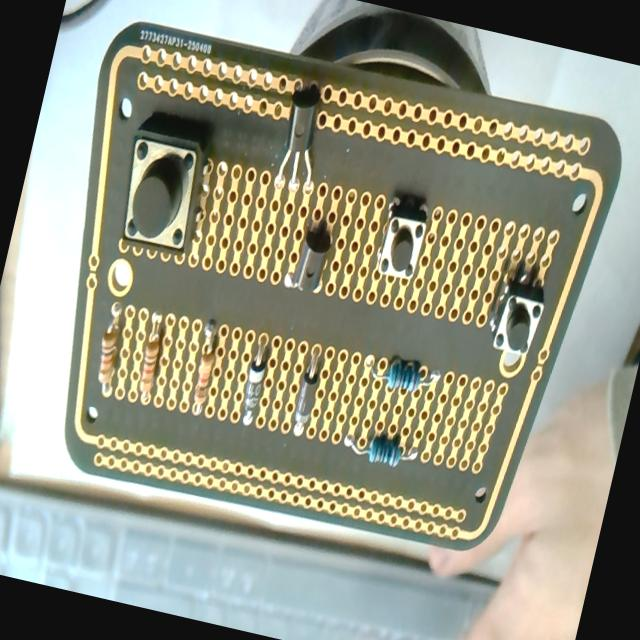diode: (236, 334, 274, 426), (288, 345, 326, 437)
resistor: (187, 318, 226, 416), (364, 350, 442, 398), (342, 428, 418, 473), (90, 304, 128, 394), (133, 314, 168, 398)
switch: (110, 124, 211, 260), (482, 268, 550, 364), (372, 192, 432, 282)
transistor: (268, 82, 332, 198), (284, 219, 336, 295)
